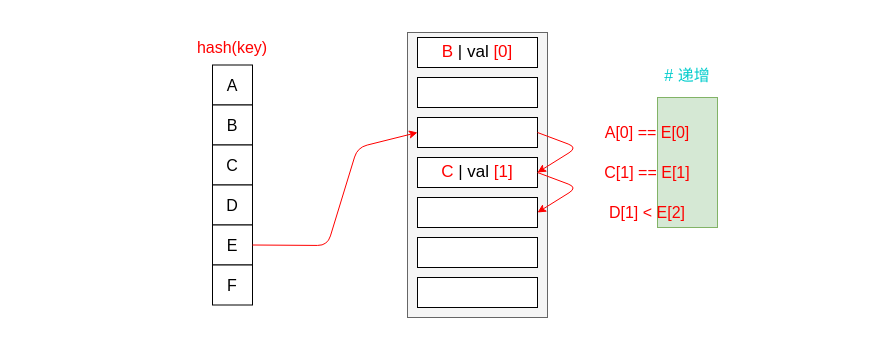
This 874x344 diagram has some shape labels left out. Here are the shapes that lost their labels. From the top down, the centre of each, then its label:
At (x=477, y=132): "A | val [0]".
At (x=477, y=212): "D | val [1]".
